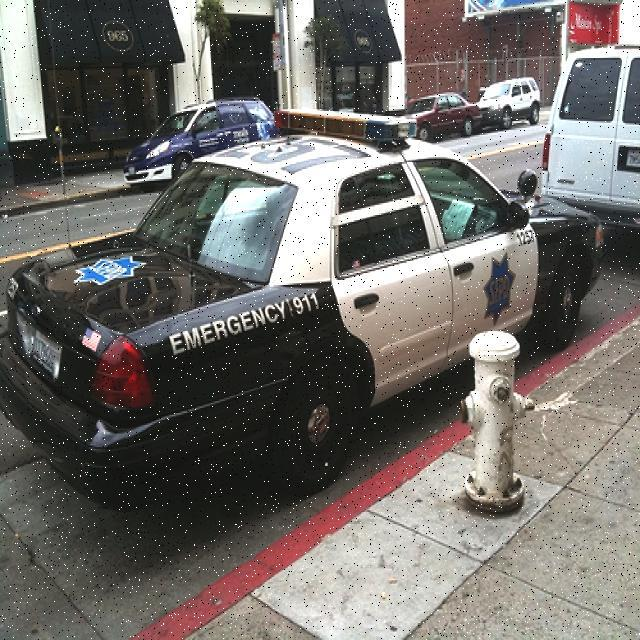fire_hydrant: (460, 329, 536, 512)
